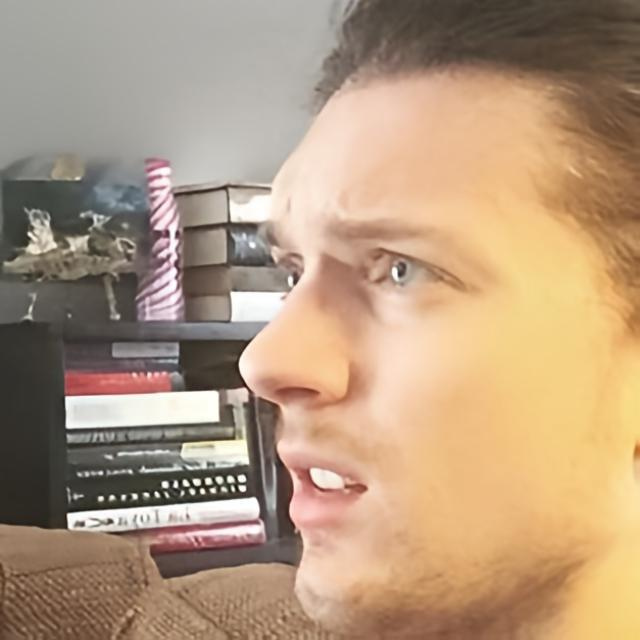disgust: (233, 53, 640, 640)
